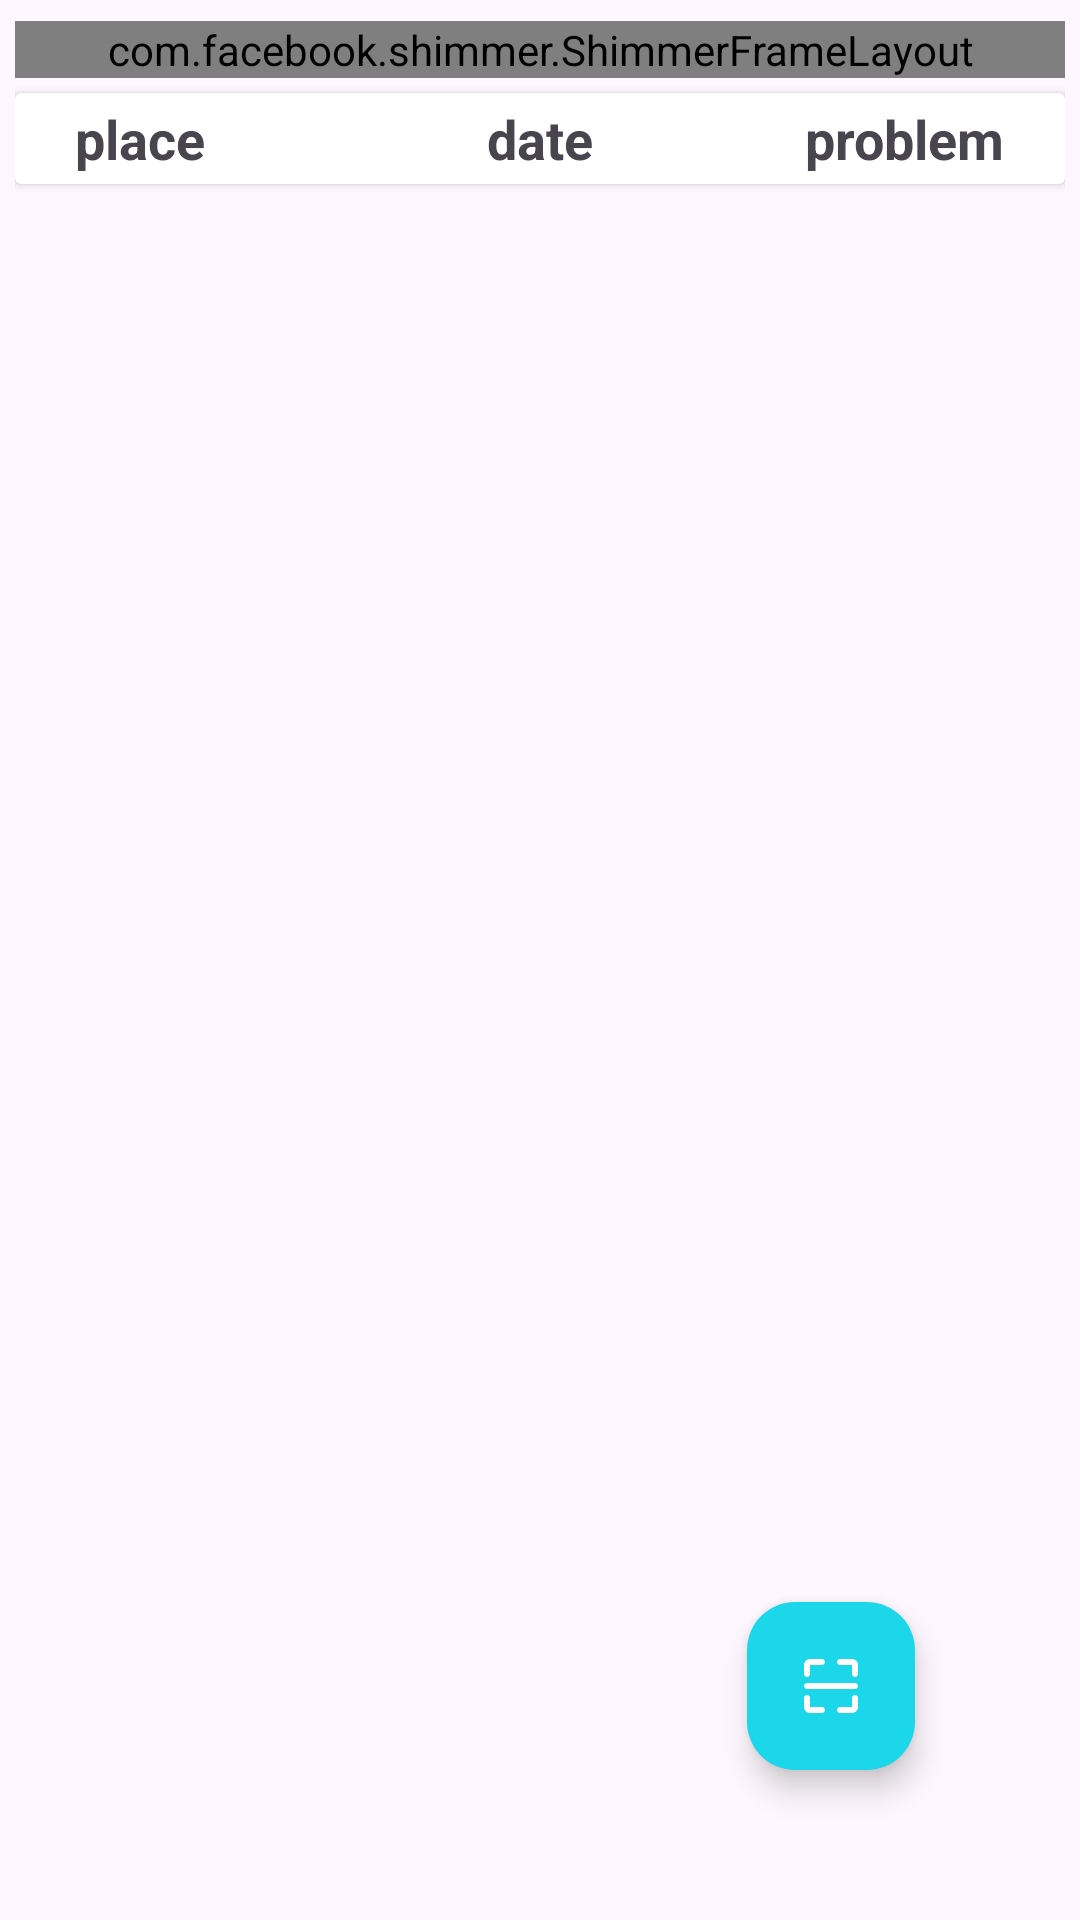

Screen size 1080 x 1920. Icon name, then its box in pixels as (x1, y1, x2, y2):
scan: (747, 1602, 915, 1770)
